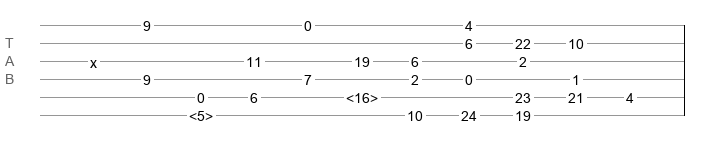0: (197, 90, 205, 100), (304, 18, 312, 28), (465, 72, 473, 82)
1: (572, 72, 580, 82)
10: (407, 108, 423, 118), (568, 36, 584, 46)
11: (246, 54, 262, 64)
19: (354, 54, 370, 64), (515, 108, 531, 118)
2: (411, 72, 419, 82), (519, 54, 527, 64)
21: (568, 90, 584, 100)
22: (515, 36, 531, 46)
23: (515, 90, 531, 100)
24: (461, 108, 477, 118)
4: (465, 18, 473, 28), (626, 90, 634, 100)
6: (250, 90, 258, 100), (411, 54, 419, 64), (465, 36, 473, 46)
7: (304, 72, 312, 82)
9: (143, 72, 151, 82), (143, 18, 151, 28)
harmonic: (346, 90, 378, 100), (189, 108, 213, 118)
x: (90, 55, 97, 63)
